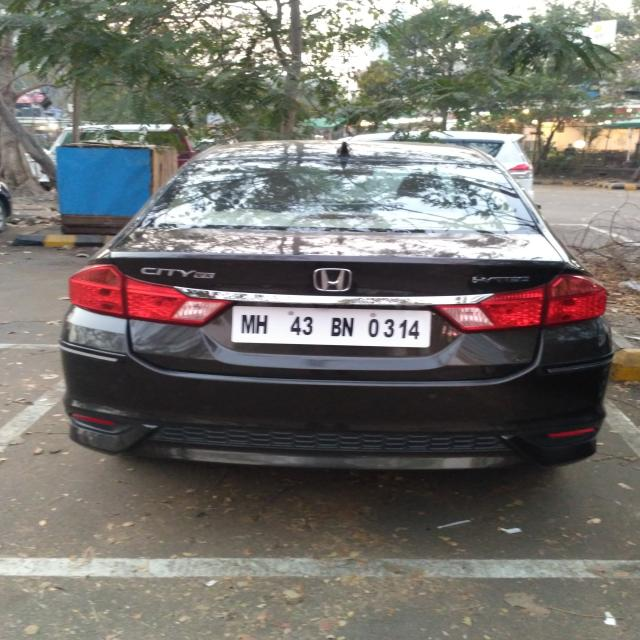Number-Plate: (232, 305, 432, 344)
